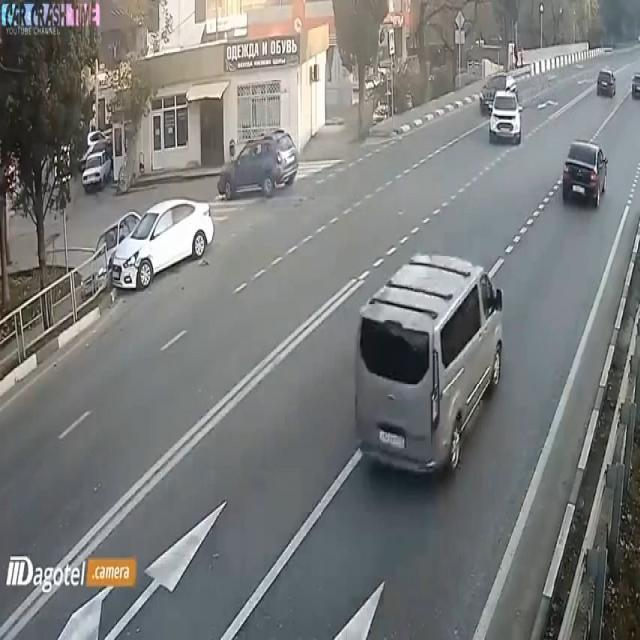Accident: (99, 185, 215, 318)
